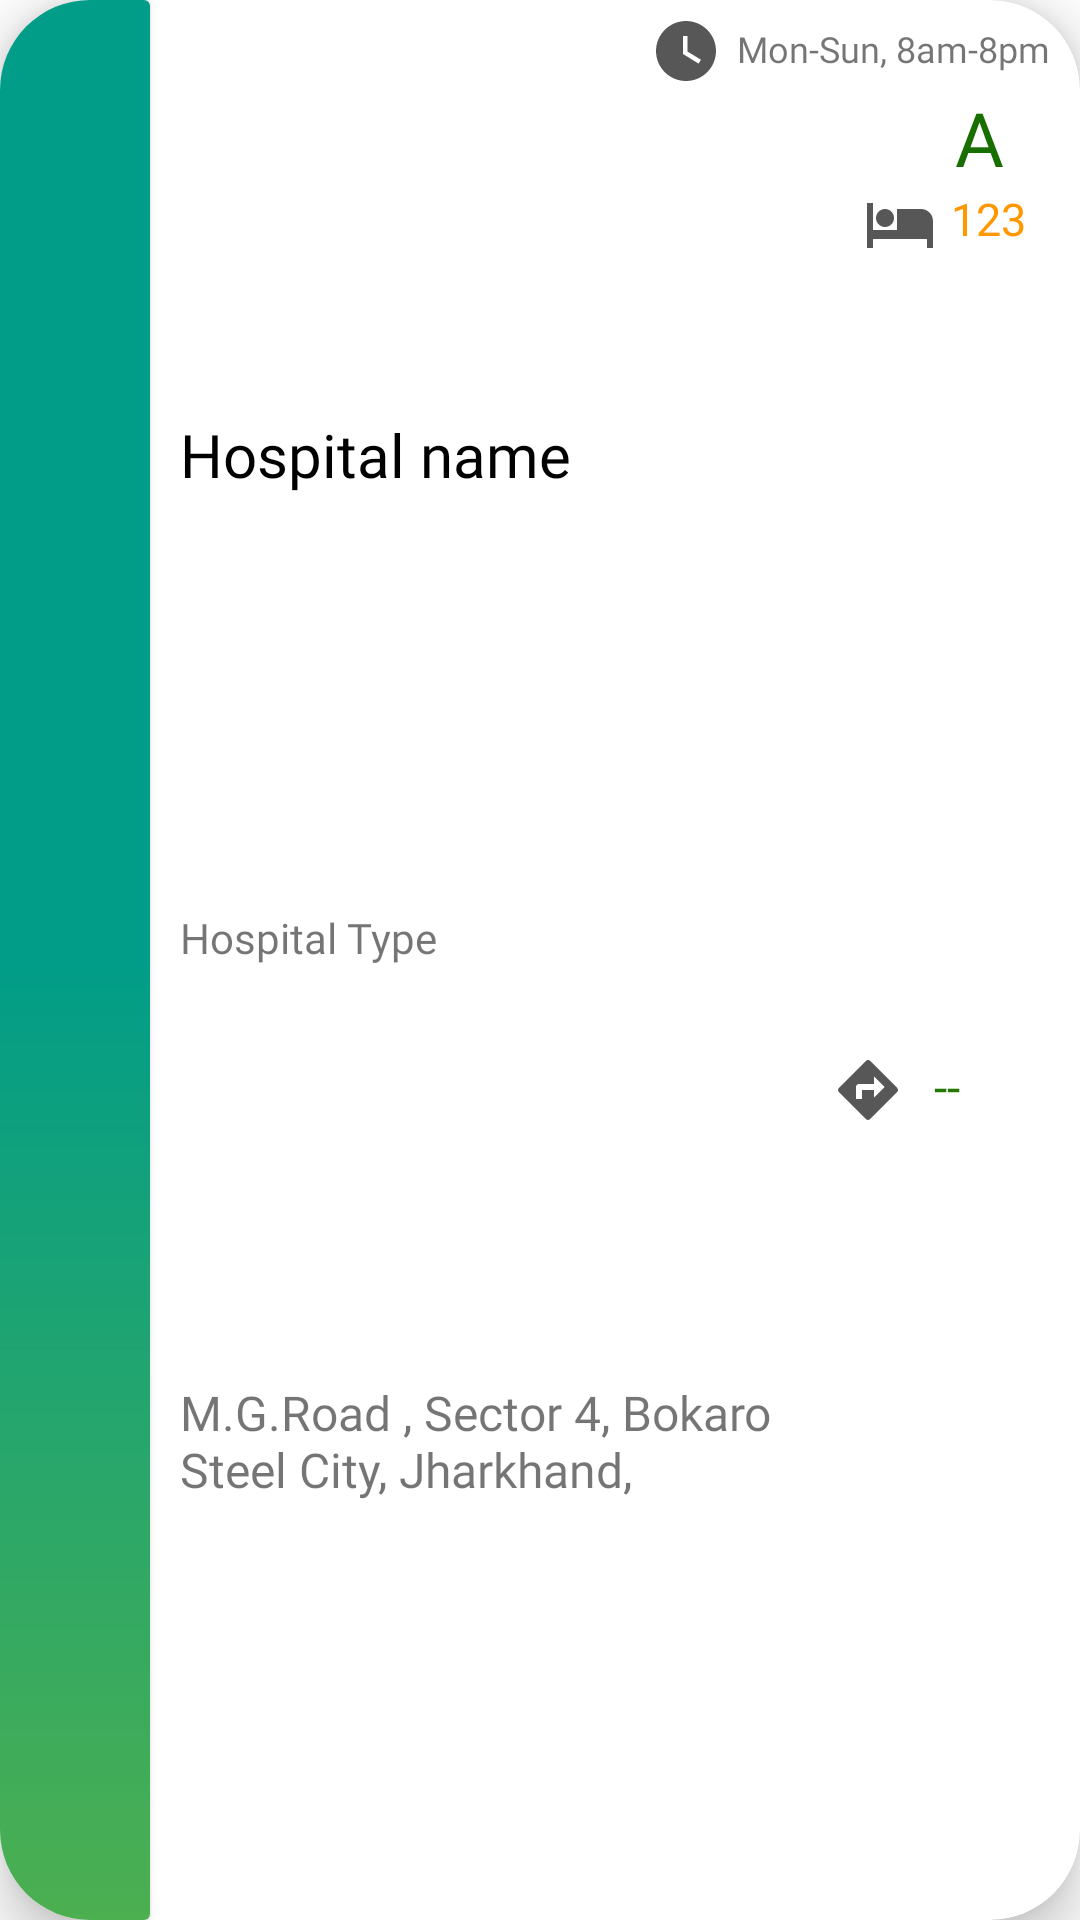

Point at icon controls on the screen. Image size 1080px×1920px, points as [x,y].
directions: [868,1090]
hotel: [900,225]
watch later: [686,51]
